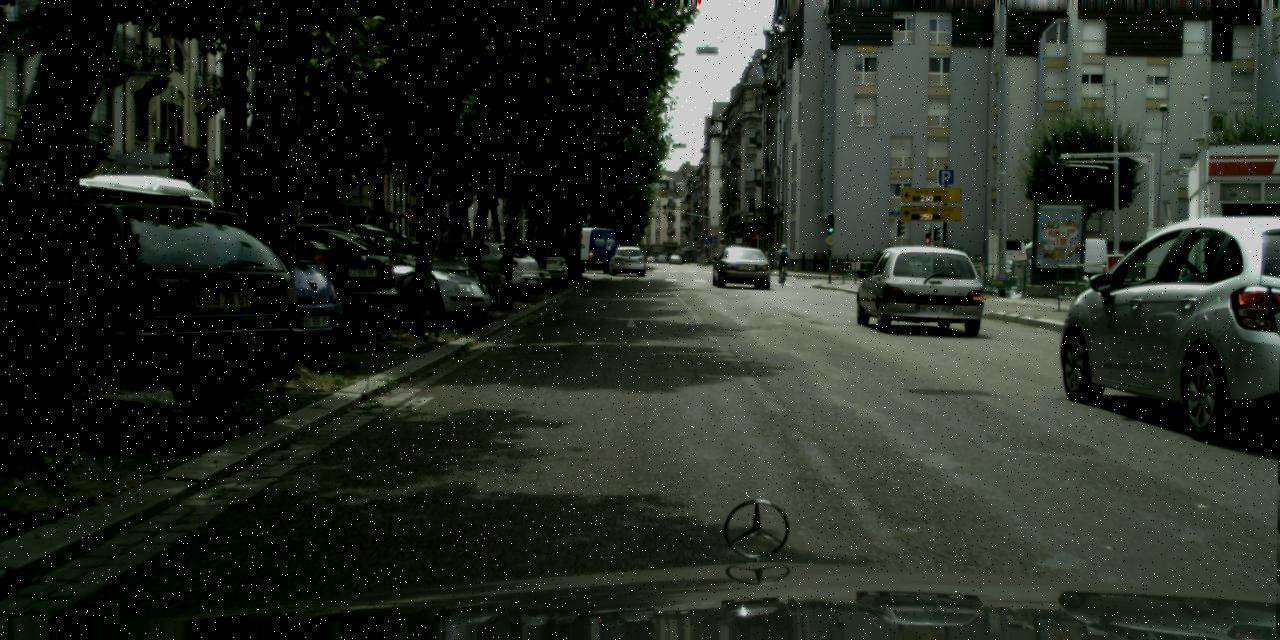ped: (775, 242, 790, 280), (766, 249, 774, 272)
